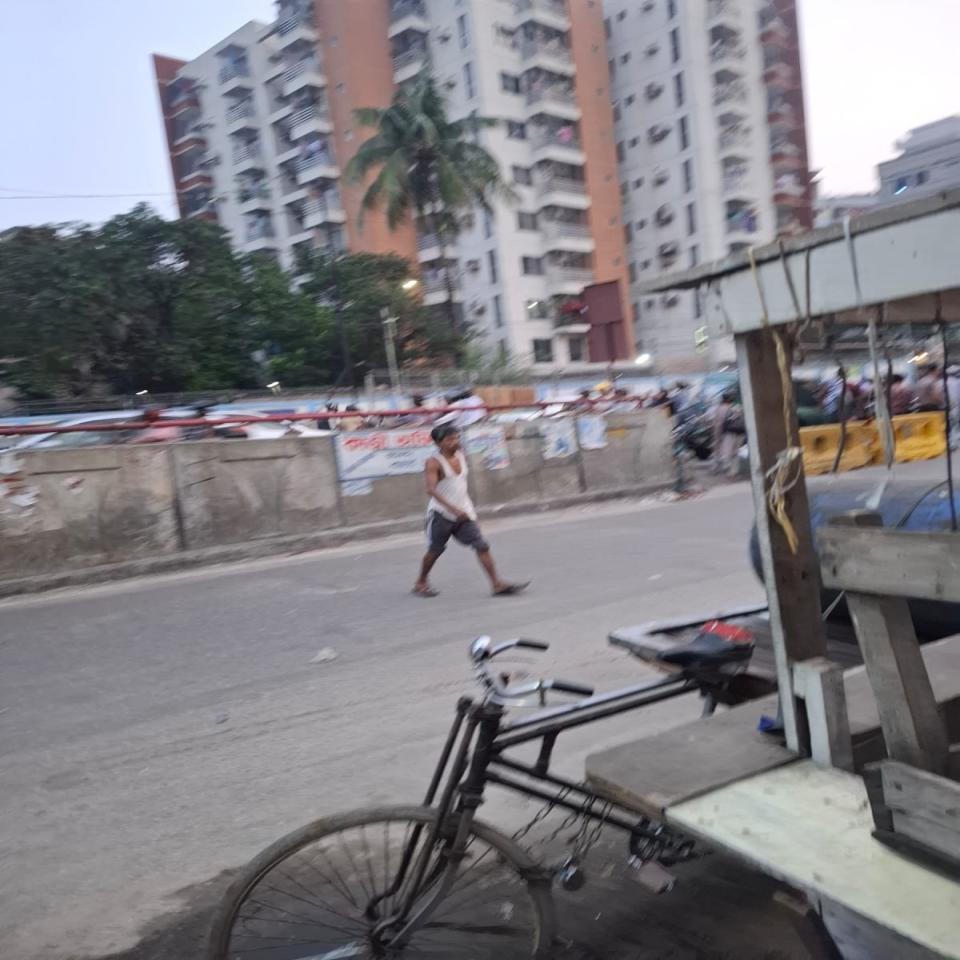person: (405, 418, 532, 606)
